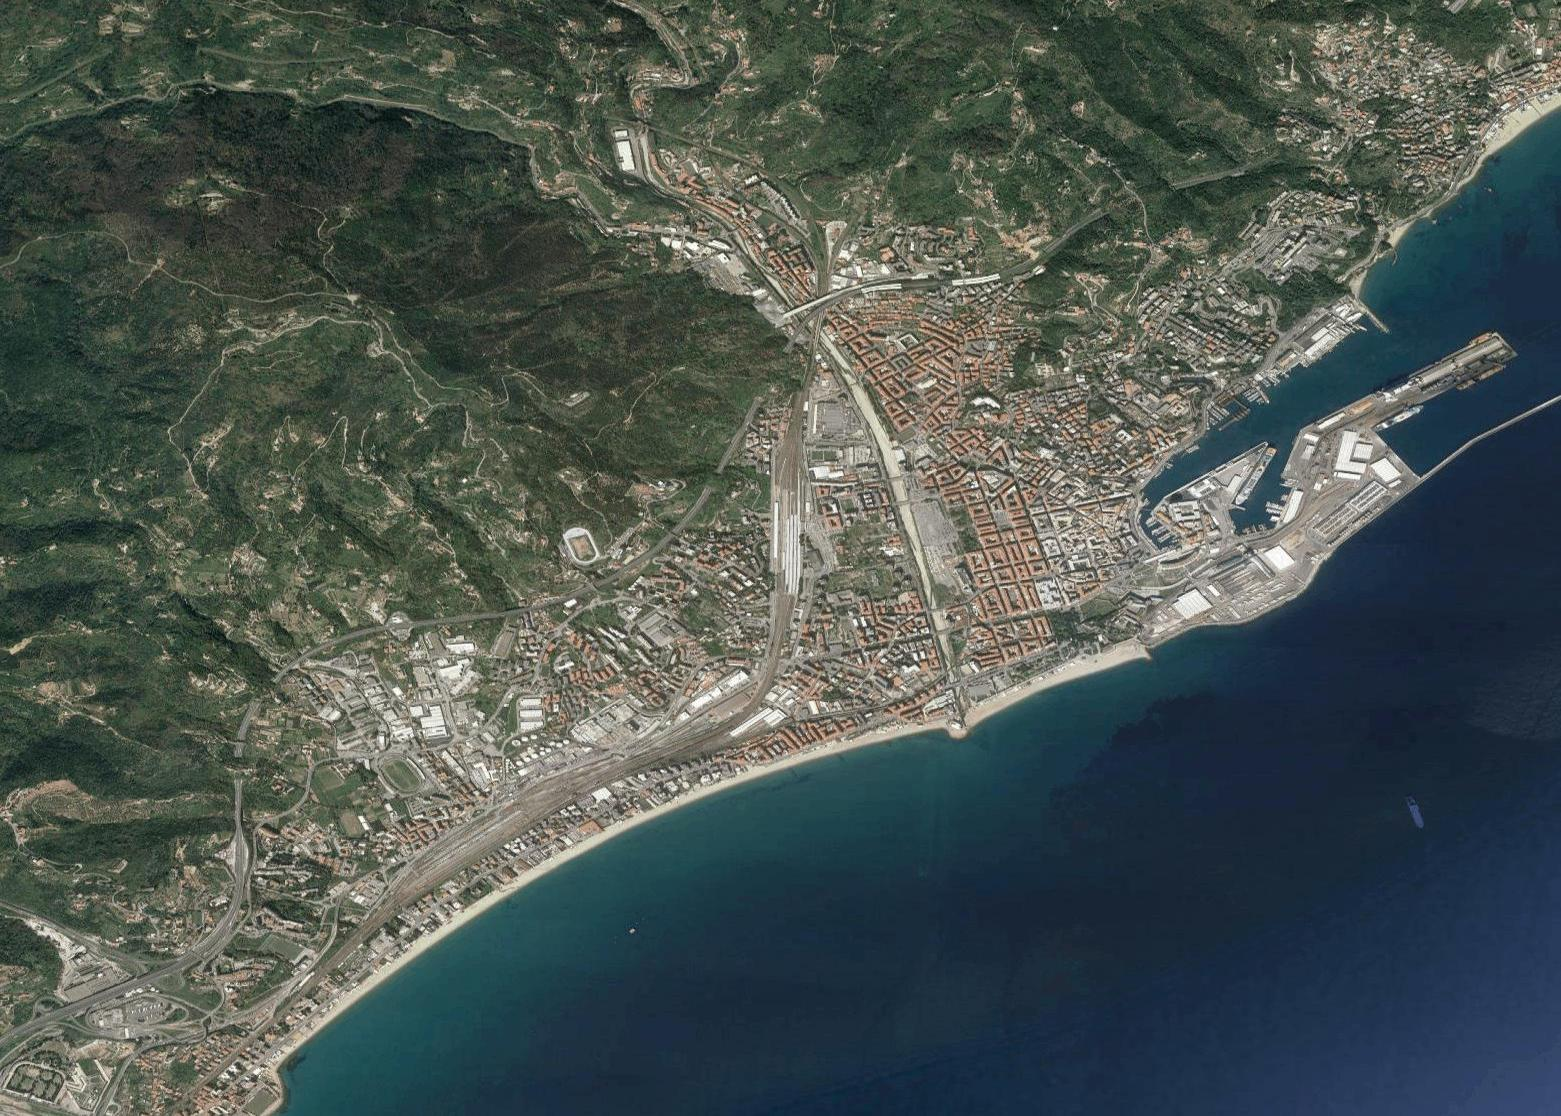harbor: (1118, 287, 1561, 571)
motorway: (141, 835, 251, 992), (1, 973, 139, 1062), (781, 281, 908, 359), (685, 399, 761, 527), (573, 521, 686, 601), (231, 665, 284, 836), (286, 611, 418, 678), (417, 589, 573, 633), (907, 257, 1037, 293), (1036, 207, 1109, 267)
train_station: (755, 470, 814, 617)
